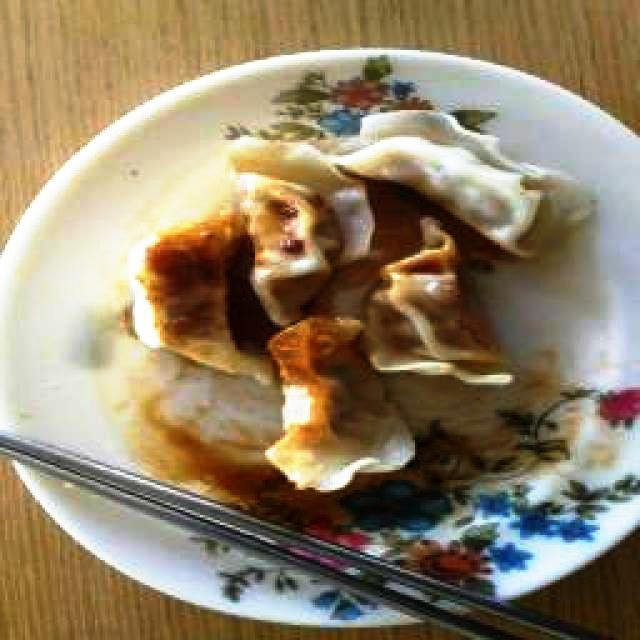fried_dumplings: (331, 110, 594, 257), (223, 136, 376, 324), (265, 318, 419, 491), (363, 218, 514, 391), (132, 209, 275, 386)
